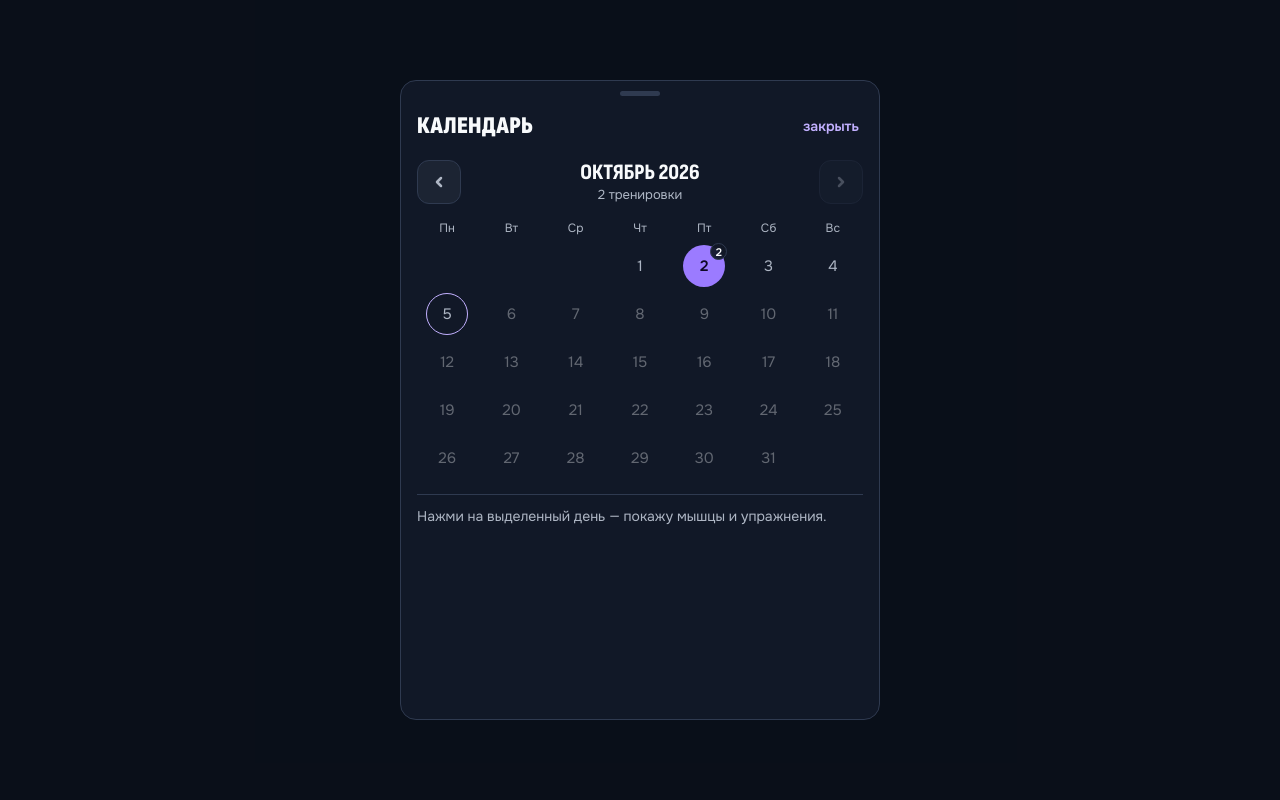
Test: WorkoutCalendar › день без тренировок — честная подпись
Click the button "1". click: (640, 266)
box: [619,245,661,287]
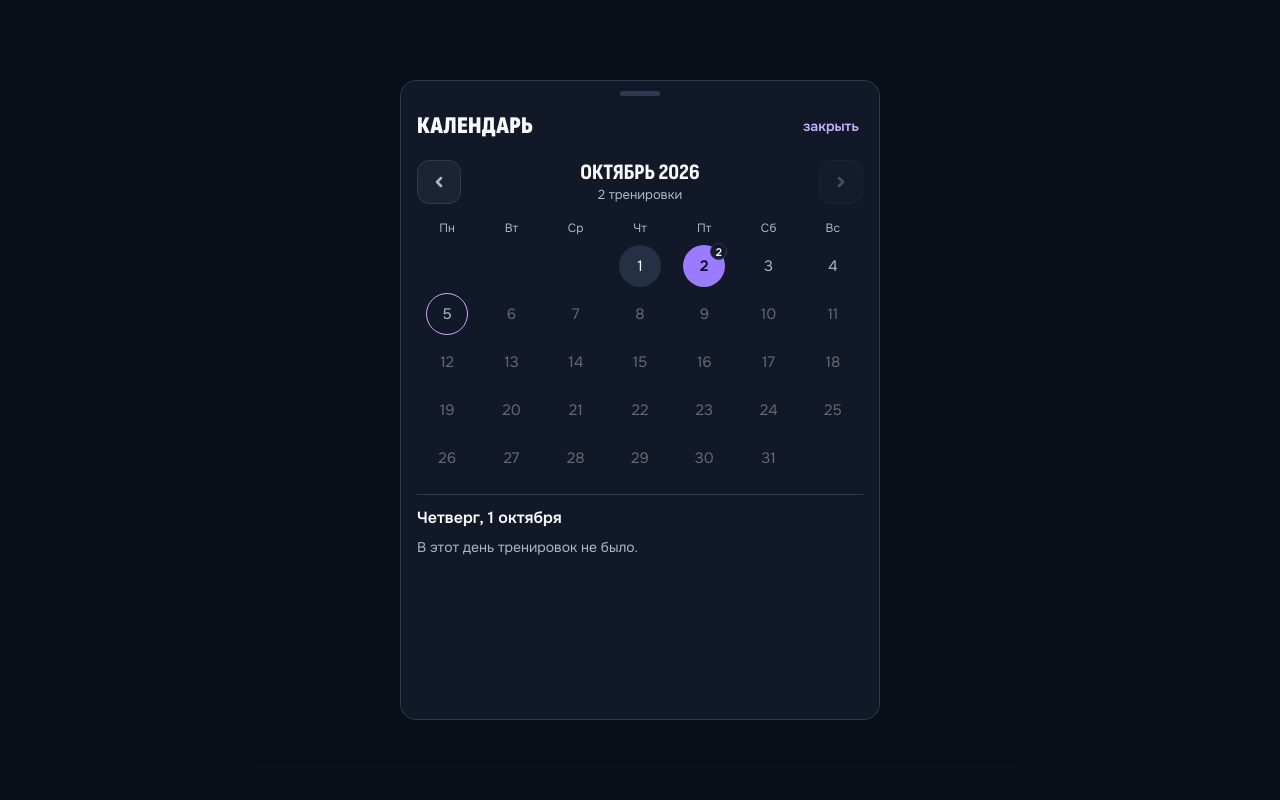
Expected: the text "В этот день тренировок не было." is shown, [417,538,638,556]
